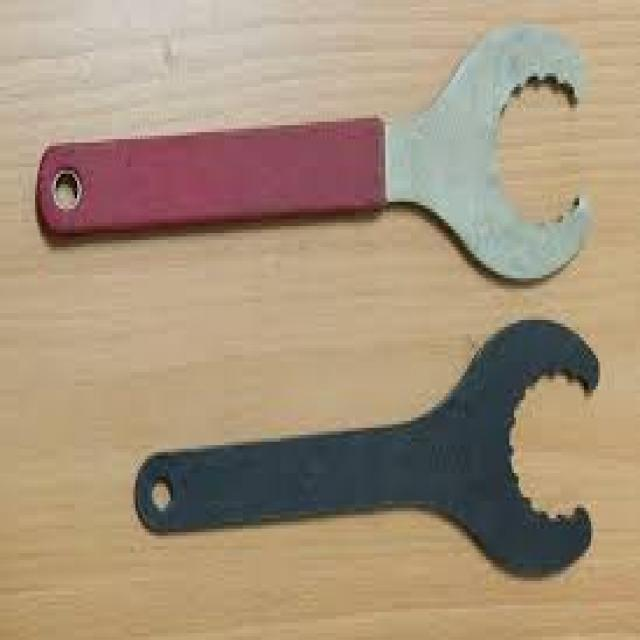wrench: (28, 18, 594, 294), (130, 312, 609, 590)
